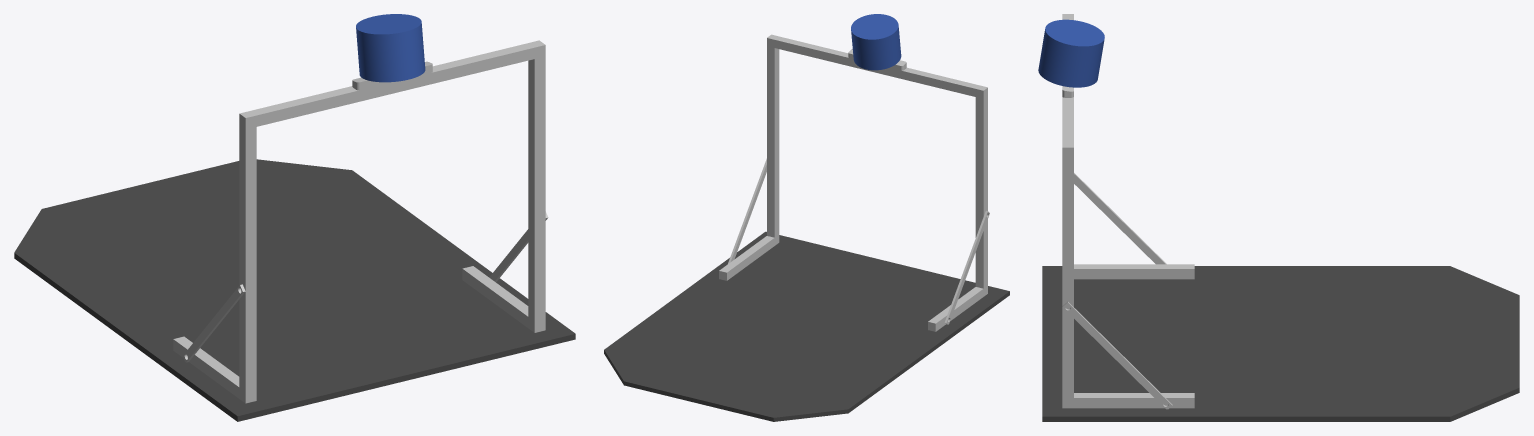
The model's file is husky_top_assembly.dae.
3 views of the same model, side by side, from view 1: azimuth 30°, elevation 25°; view 2: azimuth 150°, elevation 25°; view 3: azimuth 270°, elevation 25° (orthographic). The views are drawn at different scales.
Parts seen in each view (by area): view 1: Top Plate, Top Assembly, Lidar; view 2: Top Plate, Top Assembly, Lidar; view 3: Top Plate, Top Assembly, Lidar.
Boxes of the visible parts, x1,y1,x2,y2 form: Top Plate: [14, 159, 575, 421]; Top Assembly: [173, 40, 548, 403]; Lidar: [356, 14, 425, 82]; Top Plate: [604, 231, 1009, 421]; Top Assembly: [719, 34, 989, 331]; Lidar: [851, 14, 901, 70]; Top Plate: [1042, 266, 1519, 421]; Top Assembly: [1062, 14, 1194, 409]; Lidar: [1038, 19, 1104, 87].
Bounding box in the file's own units: 0.62 × 0.8369 × 0.6094.
